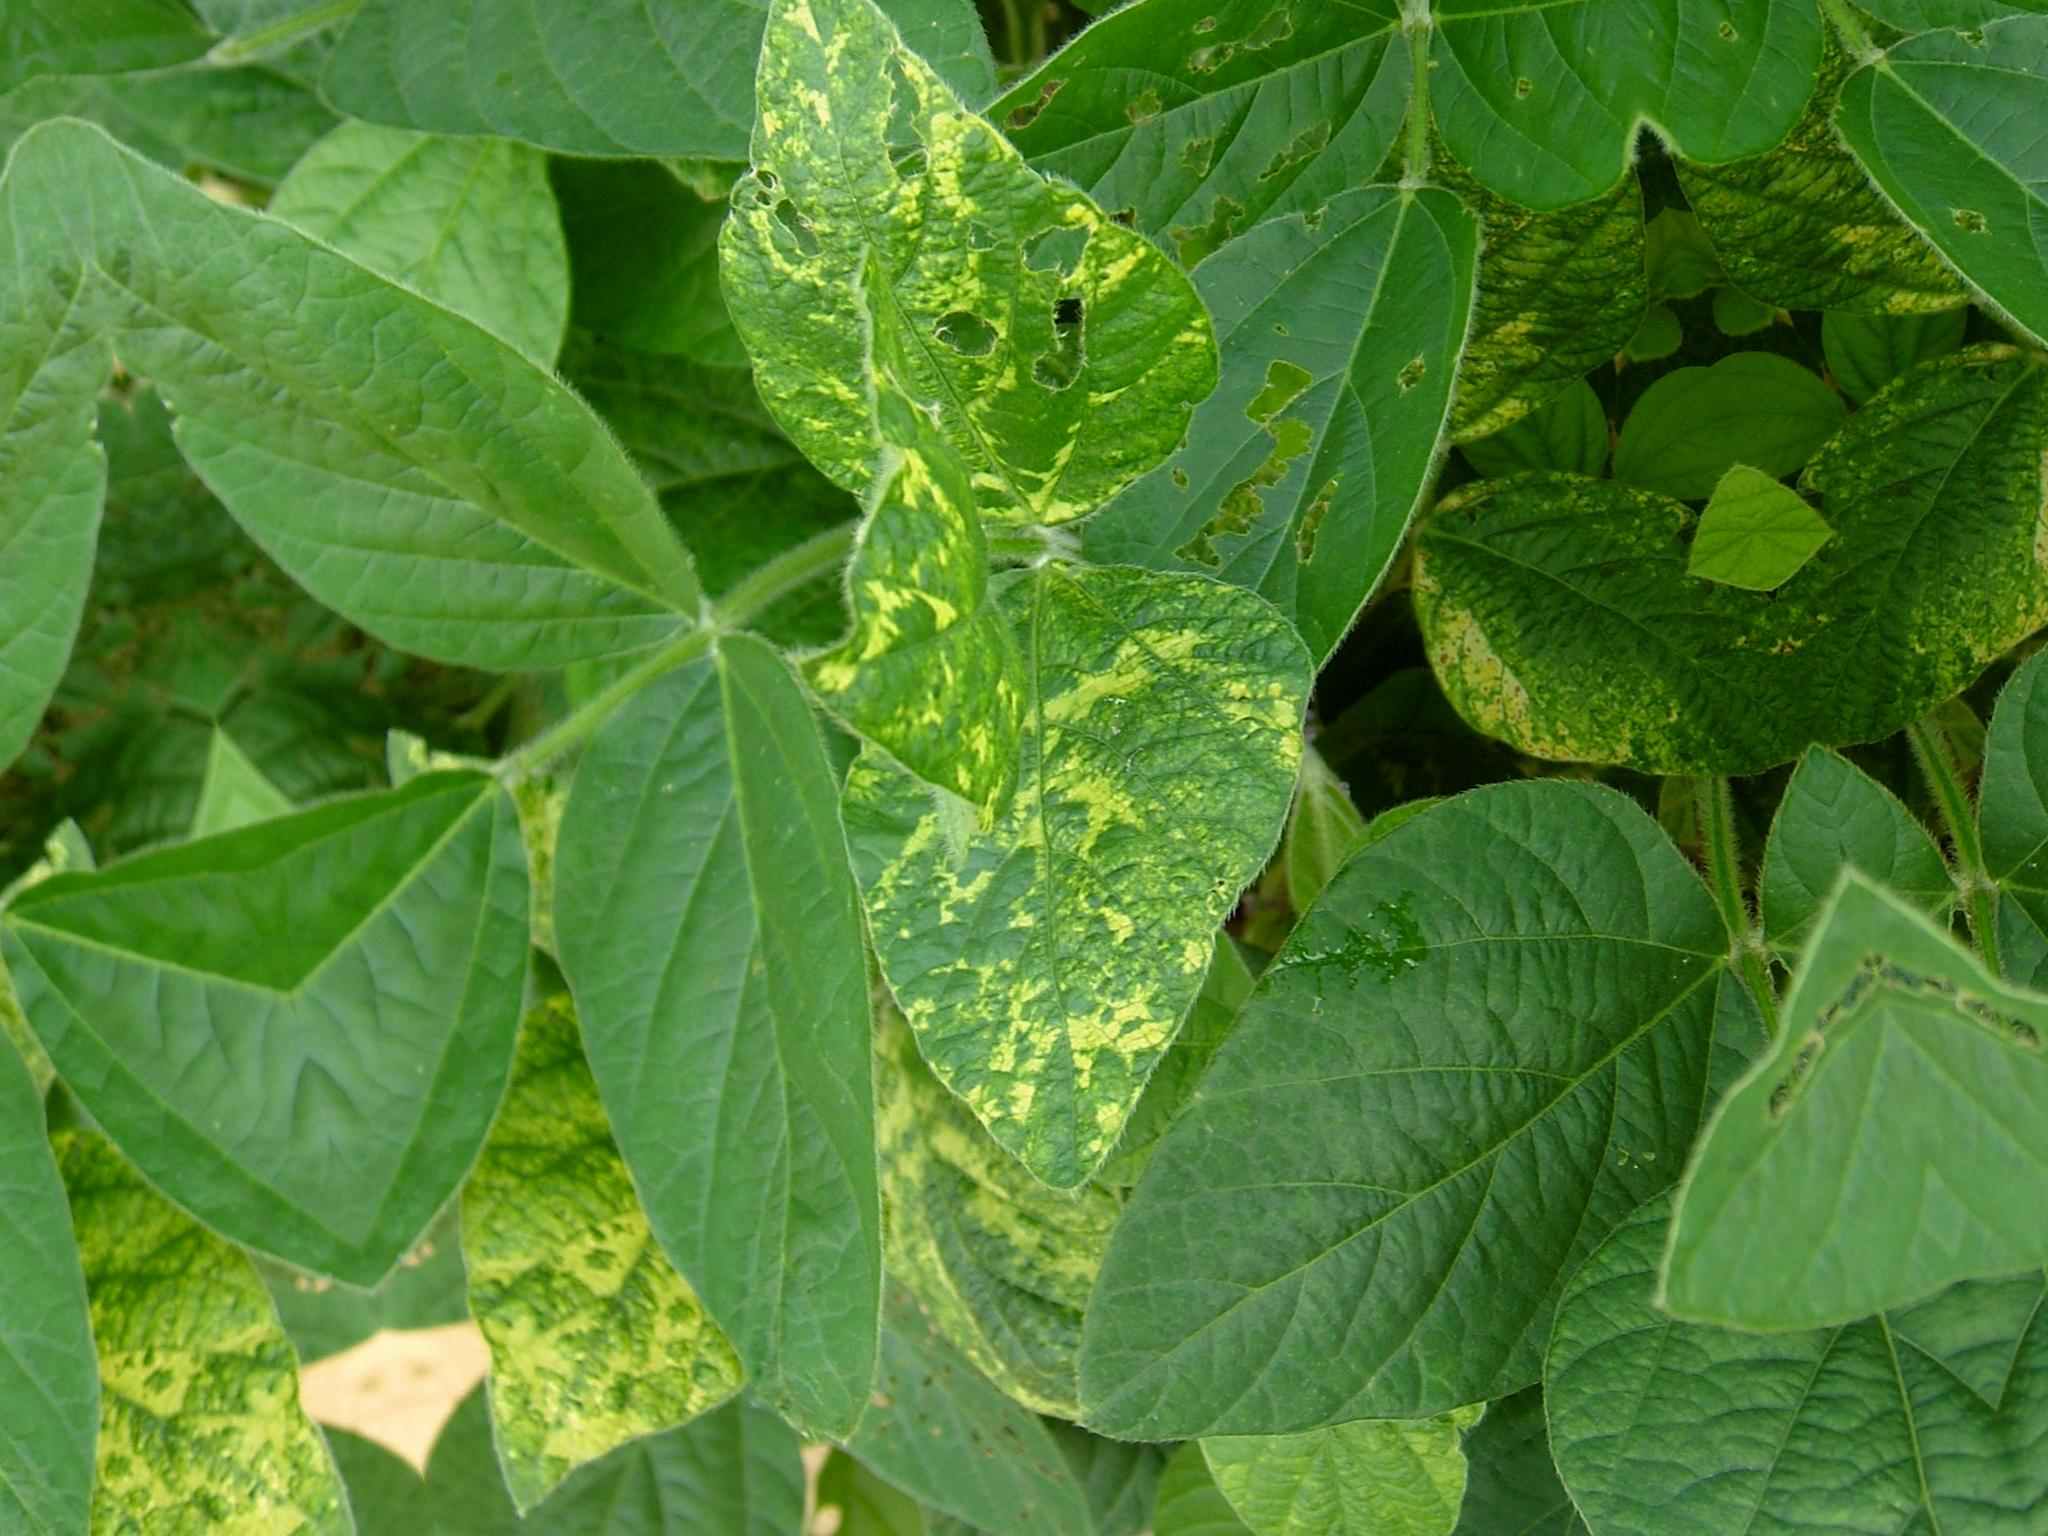Tomato leaf: (476, 615, 1002, 1454)
Tomato leaf mosaic virus: (811, 514, 1406, 1187), (615, 0, 1260, 600)
